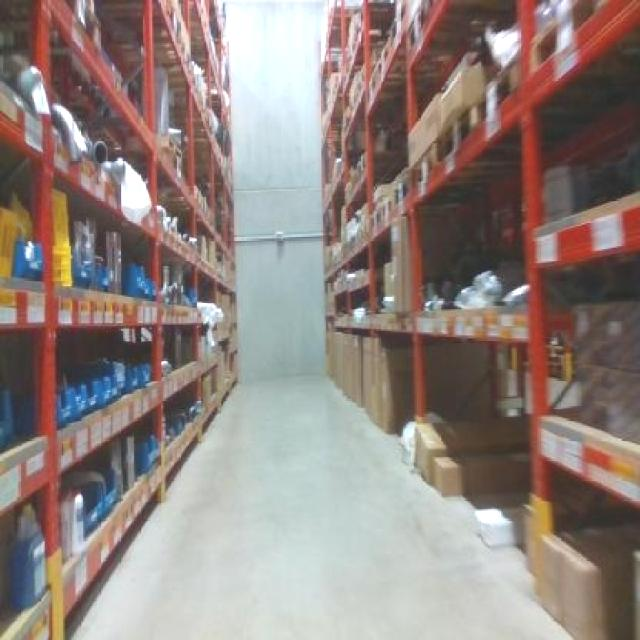pallets: (318, 0, 637, 637)
